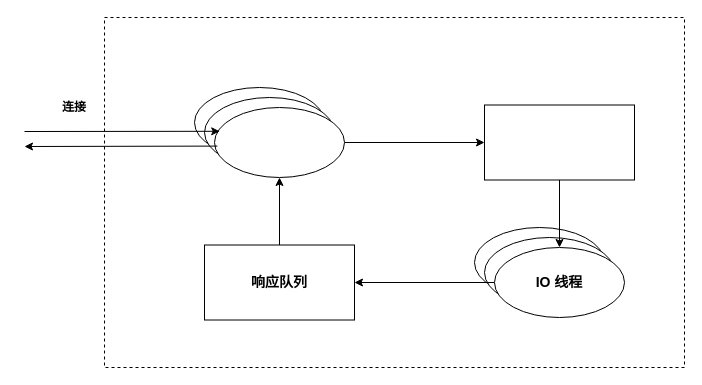
The diagram is 702 pixels wide and 385 high, and some of its shapes have lost their labels. Here are the shapes that lost their labels. From the top down, the centre of each, then its label:
At (x=279, y=142): "Processor 线程".
At (x=559, y=142): "请求队列".
